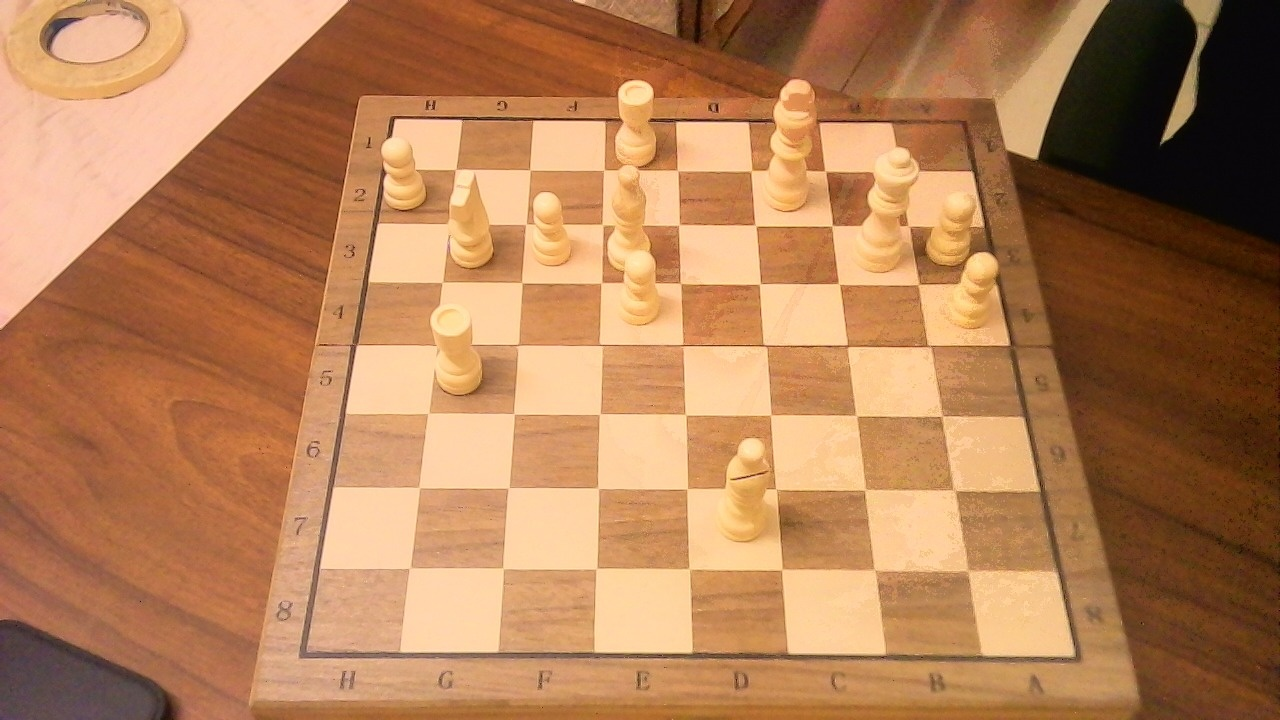B: (707, 426, 779, 549), (604, 154, 663, 277)
K: (758, 66, 827, 216)
N: (443, 163, 504, 272)
P: (937, 241, 1006, 332), (921, 182, 985, 270), (608, 240, 668, 330), (525, 182, 578, 272), (377, 128, 433, 212)
Q: (846, 135, 925, 277)
R: (427, 293, 490, 399), (608, 70, 664, 167)
